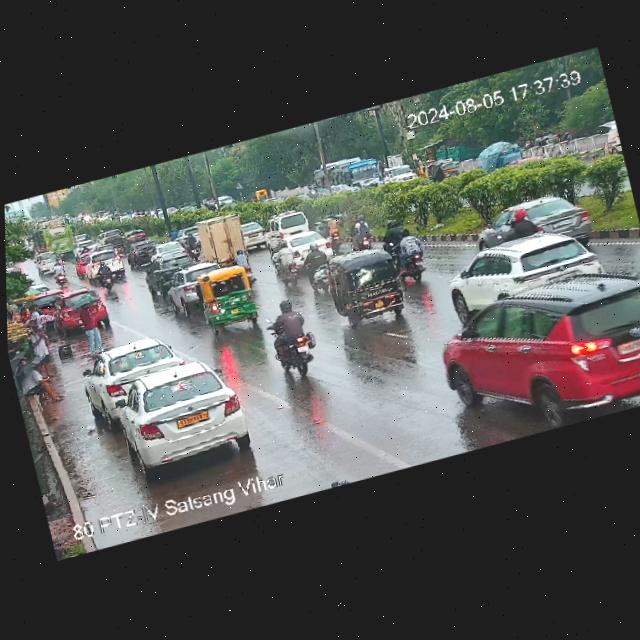bus: (30, 214, 79, 260), (141, 252, 182, 297)
car: (438, 258, 640, 449), (95, 352, 253, 482), (439, 219, 603, 316), (475, 184, 600, 262), (317, 238, 414, 332), (83, 330, 187, 412), (190, 260, 263, 336), (164, 256, 235, 314), (50, 284, 113, 336), (269, 224, 338, 268), (73, 244, 127, 282), (265, 205, 316, 240), (379, 157, 418, 190), (146, 236, 192, 263), (423, 155, 461, 184), (242, 217, 275, 250), (35, 247, 67, 272), (129, 236, 161, 259), (72, 237, 100, 258), (100, 224, 127, 241), (122, 227, 150, 243)
motorcycle: (263, 294, 322, 380), (389, 225, 438, 283), (301, 240, 332, 294), (342, 211, 376, 253), (274, 235, 300, 286), (502, 205, 531, 237), (376, 217, 401, 246), (93, 260, 115, 292), (183, 228, 201, 262), (50, 261, 71, 289), (80, 243, 90, 256)
person: (14, 355, 65, 409), (74, 295, 111, 350), (29, 320, 50, 357), (20, 300, 46, 321)
truck: (181, 207, 258, 271), (312, 150, 384, 205)
